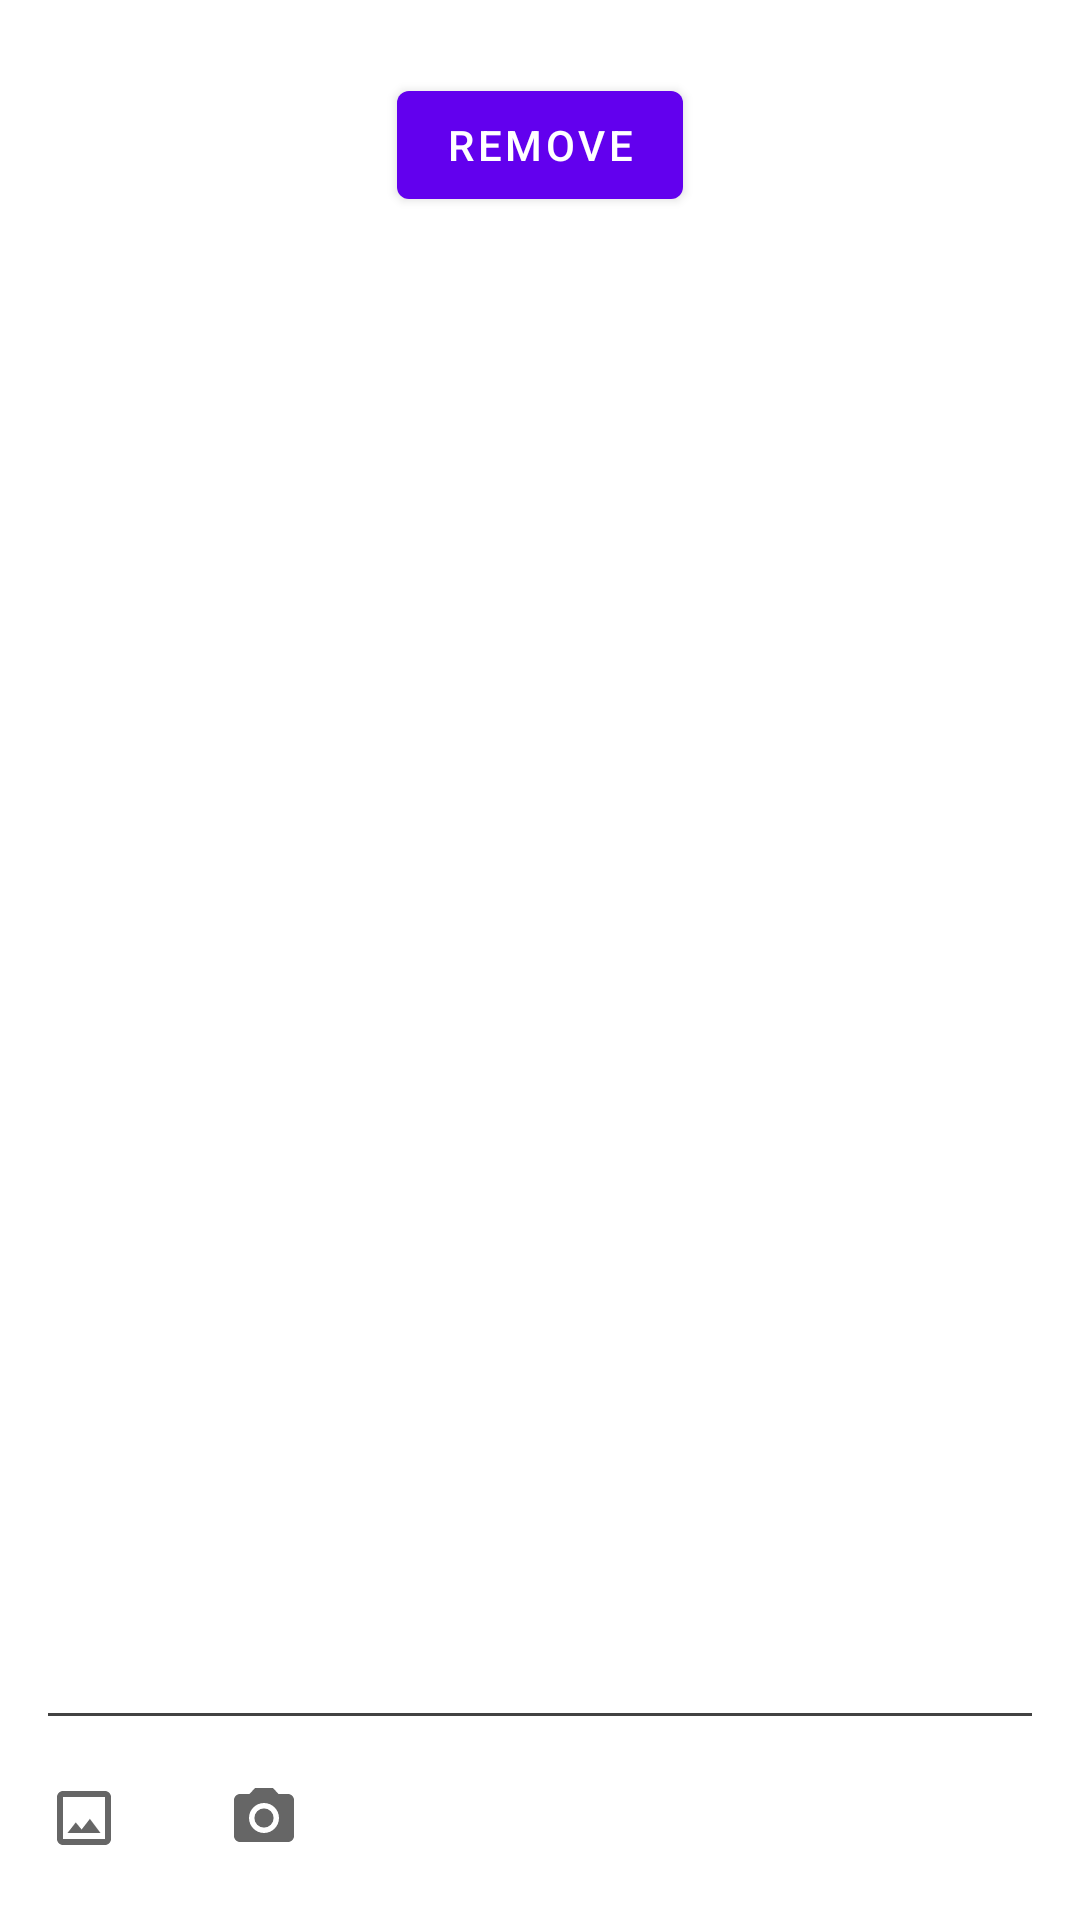

Screen size 1080 x 1920. Icon name, then its center in pixels as point (x, y):
Select photo: point (84, 1818)
Take photo: point (264, 1815)
